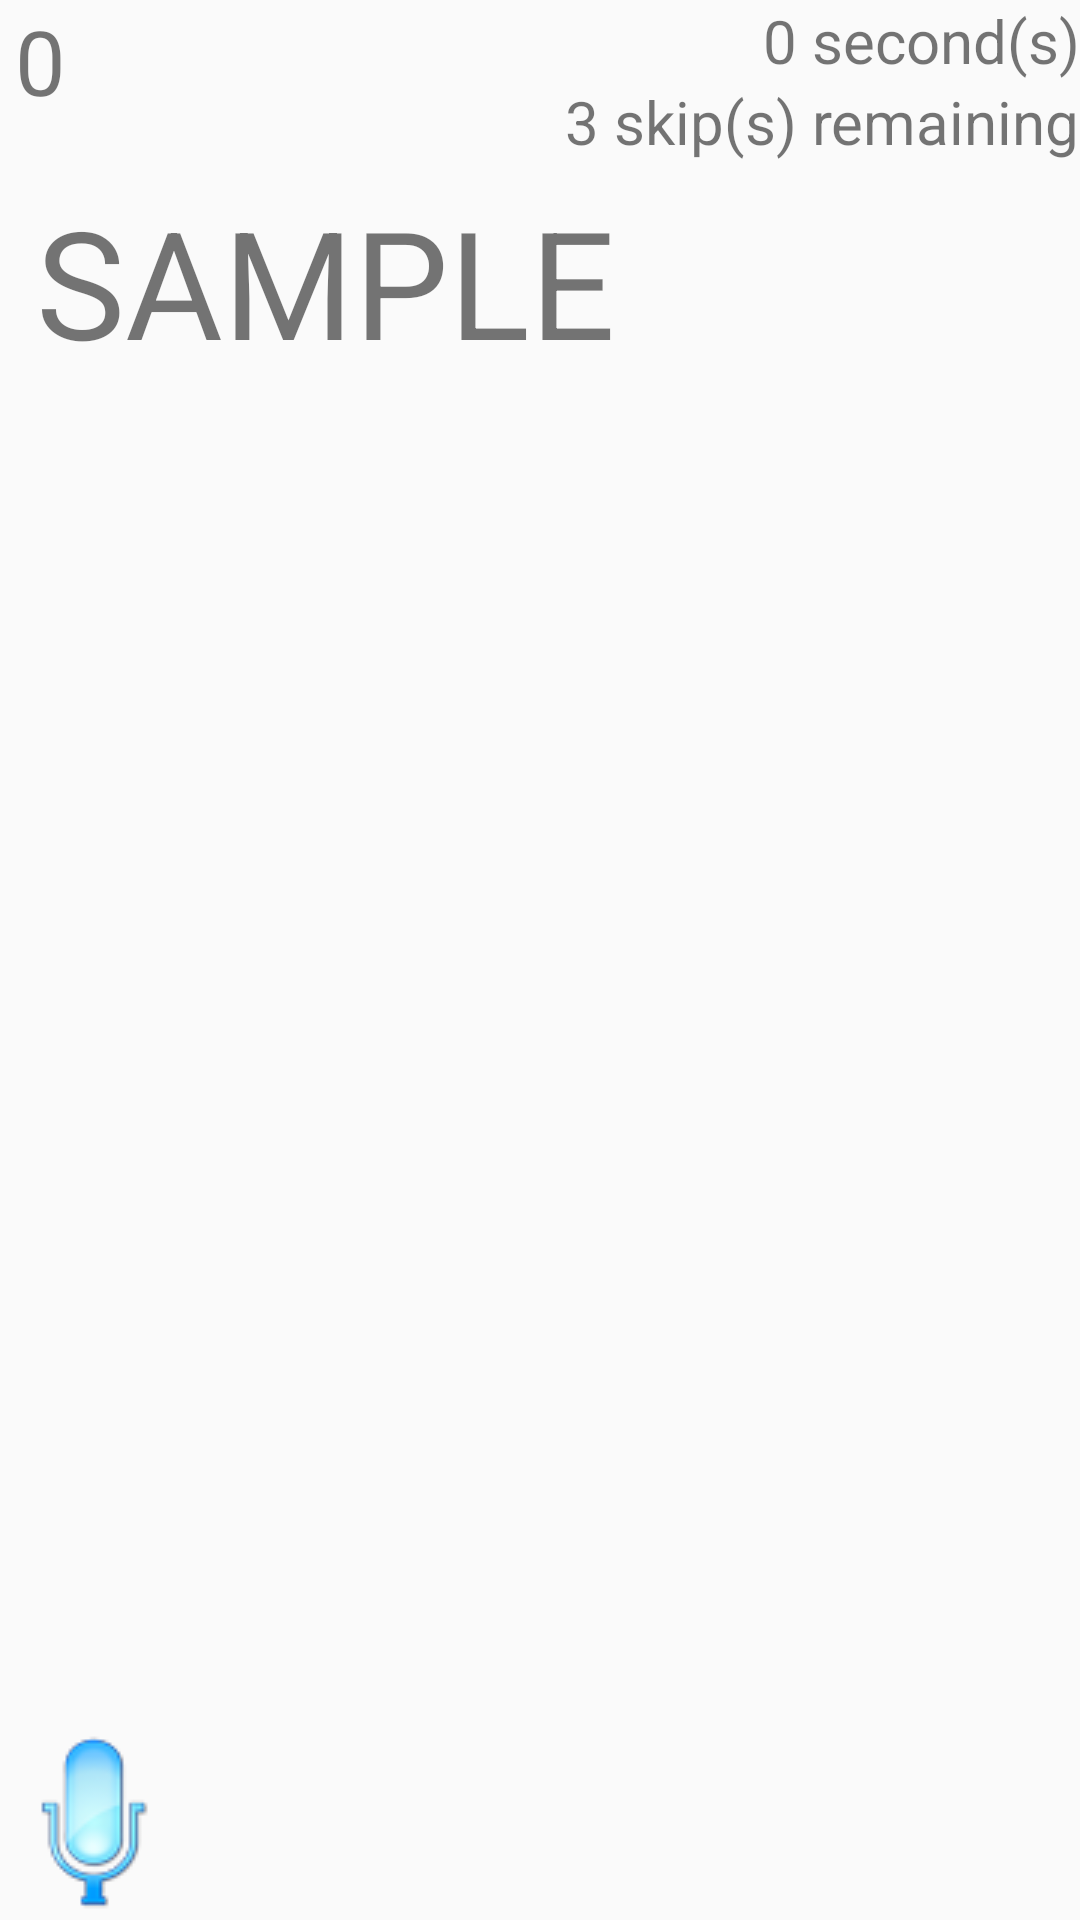

Screen size 1080 × 1920. Icon name, then its box in pixels as {"x1": x1, "y1": y1, "x2": x2, "y2": y2}:
mic: {"x1": 41, "y1": 1738, "x2": 147, "y2": 1906}
